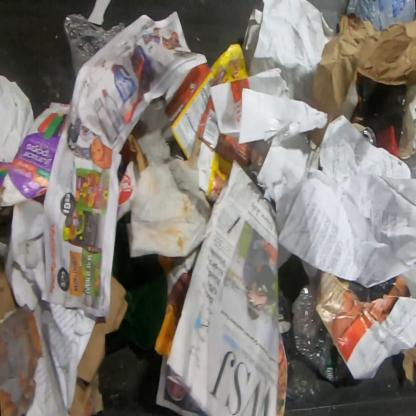cardboard: (164, 43, 266, 209), (67, 273, 128, 416), (0, 101, 73, 209), (0, 257, 18, 326), (400, 342, 416, 384)
metal: (351, 122, 377, 147)
rigid_plastic: (290, 284, 351, 381)
soft_plastic: (62, 13, 126, 86)
